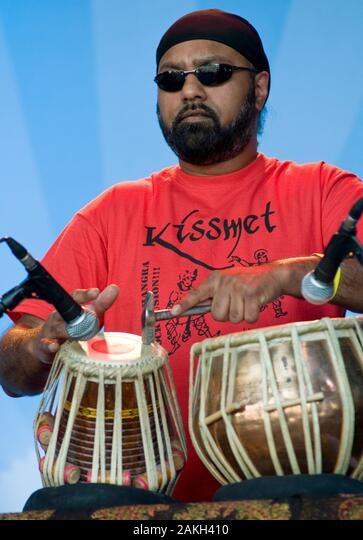tabla: (194, 319, 363, 497), (37, 337, 186, 503)
